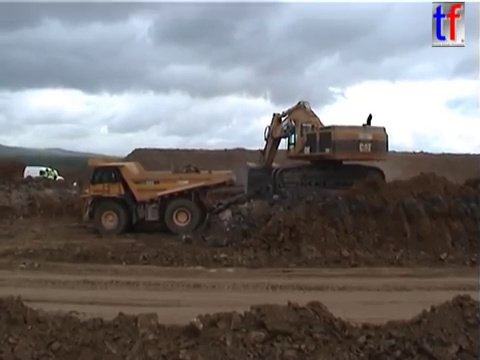excavator: (241, 98, 391, 198)
truck: (70, 155, 236, 236)
worker: (50, 166, 59, 185), (44, 165, 52, 182)
